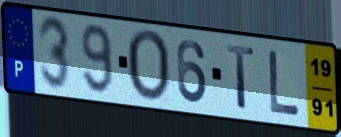3: (36, 13, 73, 97)
6: (174, 37, 209, 105)
9: (78, 22, 116, 97)
L: (266, 47, 303, 118)
O: (124, 28, 172, 106)
T: (225, 42, 258, 113)
